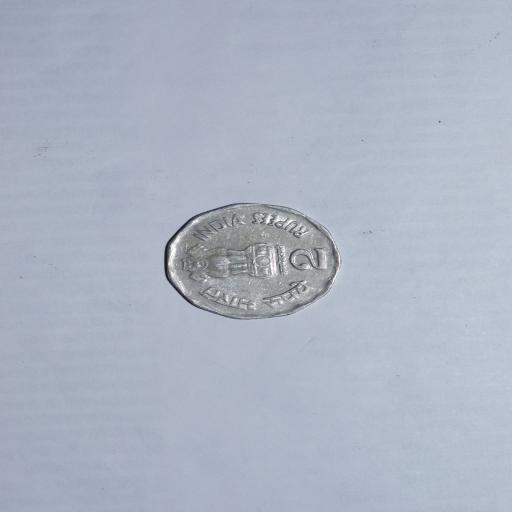rupee2: (157, 202, 342, 321)
